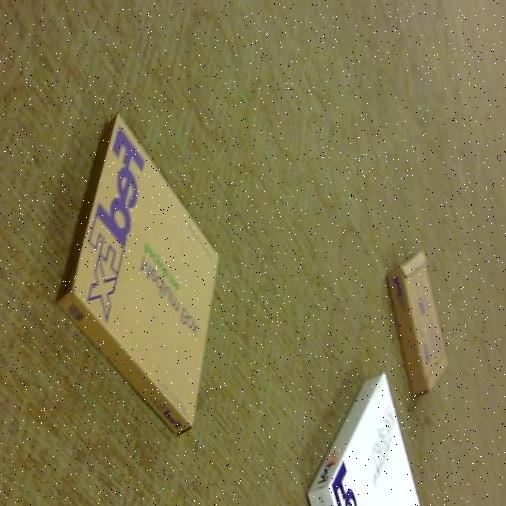Amazon: (67, 131, 222, 422), (316, 386, 413, 506)
